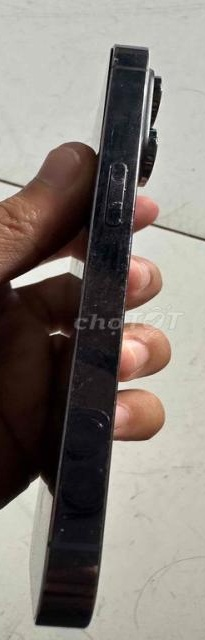scratch: (82, 133, 142, 267), (40, 517, 107, 580), (67, 358, 118, 426), (102, 44, 173, 80)
